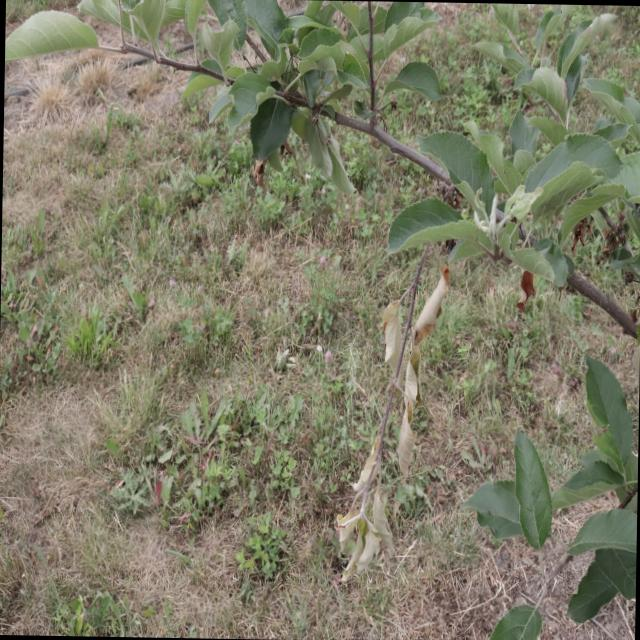-FireBlight-: (340, 488, 386, 573), (378, 292, 408, 368), (400, 346, 422, 416), (397, 402, 414, 488), (413, 302, 441, 348), (369, 427, 384, 490), (518, 266, 534, 319)
